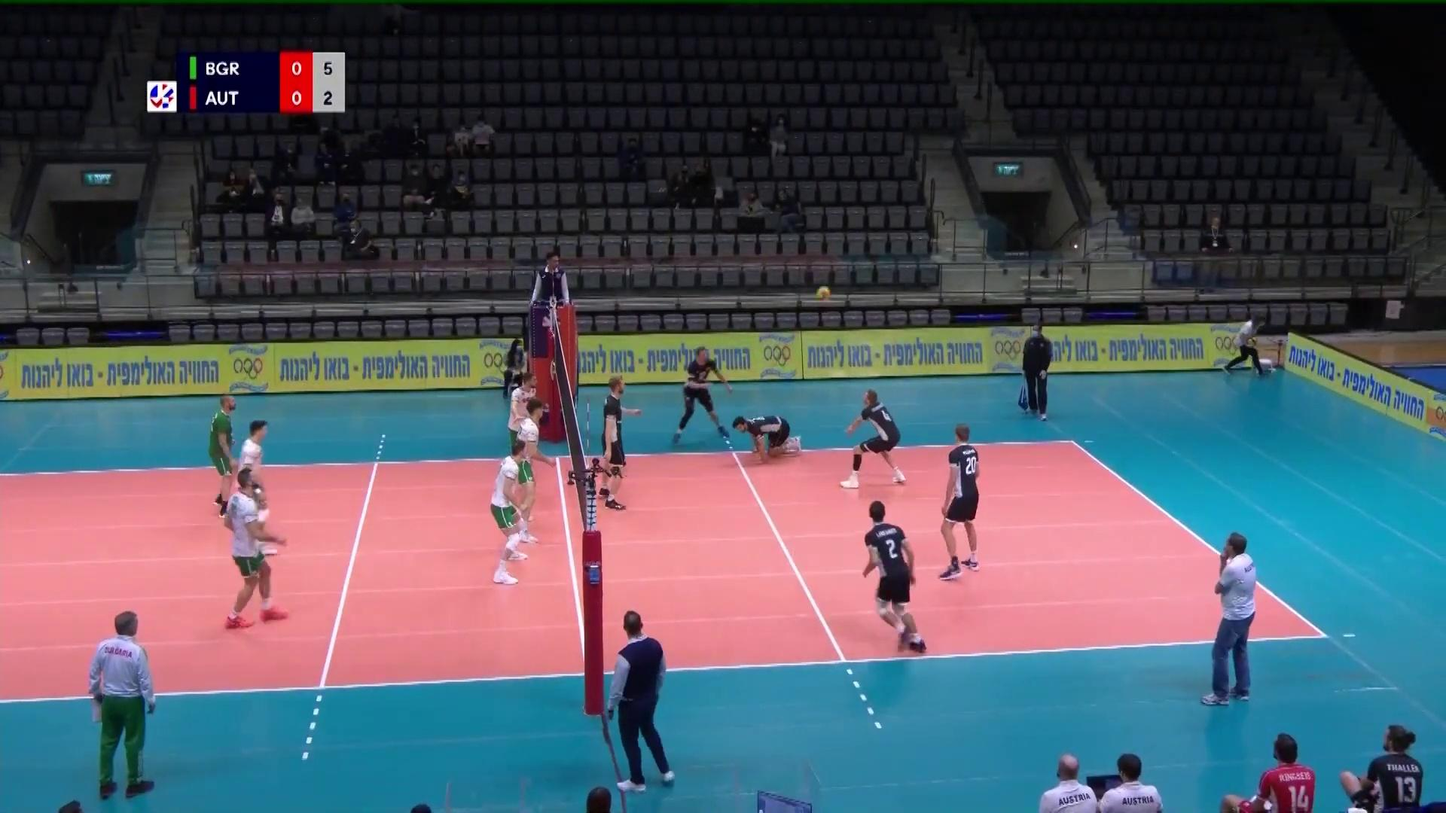ball: (817, 284, 829, 299)
